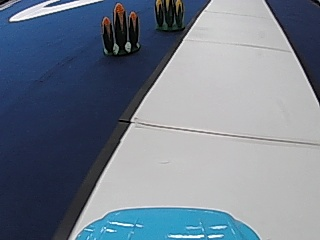corn: (100, 2, 141, 56), (153, 0, 184, 32)
